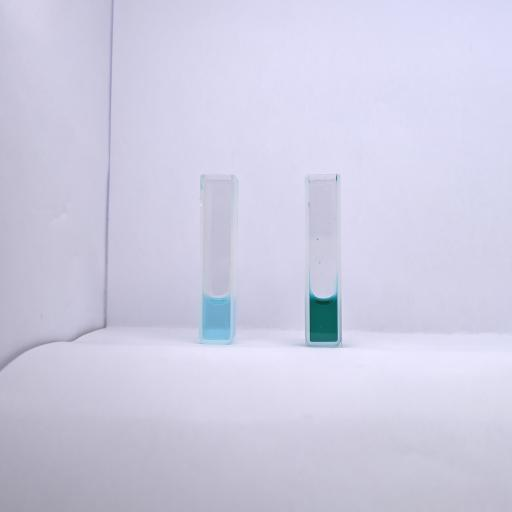cuvette: (303, 172, 344, 349), (196, 172, 236, 346)
liquid: (311, 295, 338, 342), (203, 295, 231, 340)
